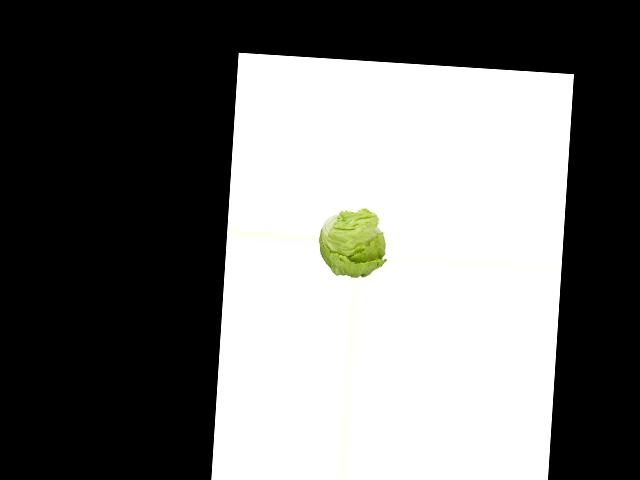lettuce: (315, 208, 388, 279)
